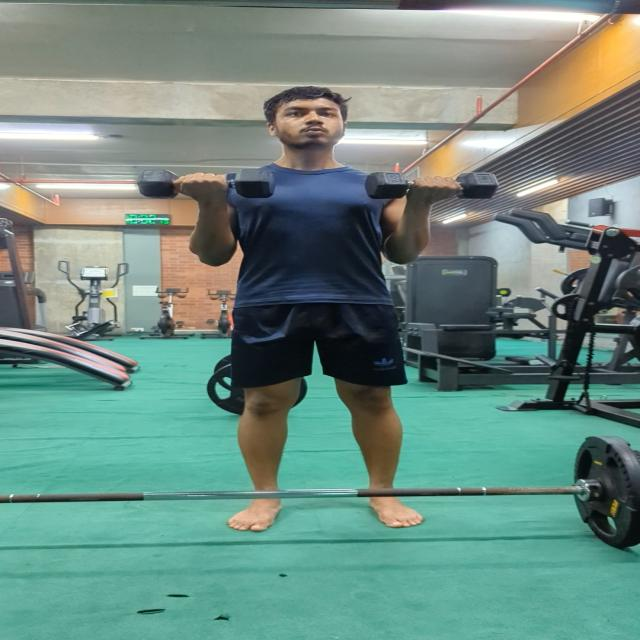Normal_DumbbellBicepCurls: (130, 79, 506, 542)
